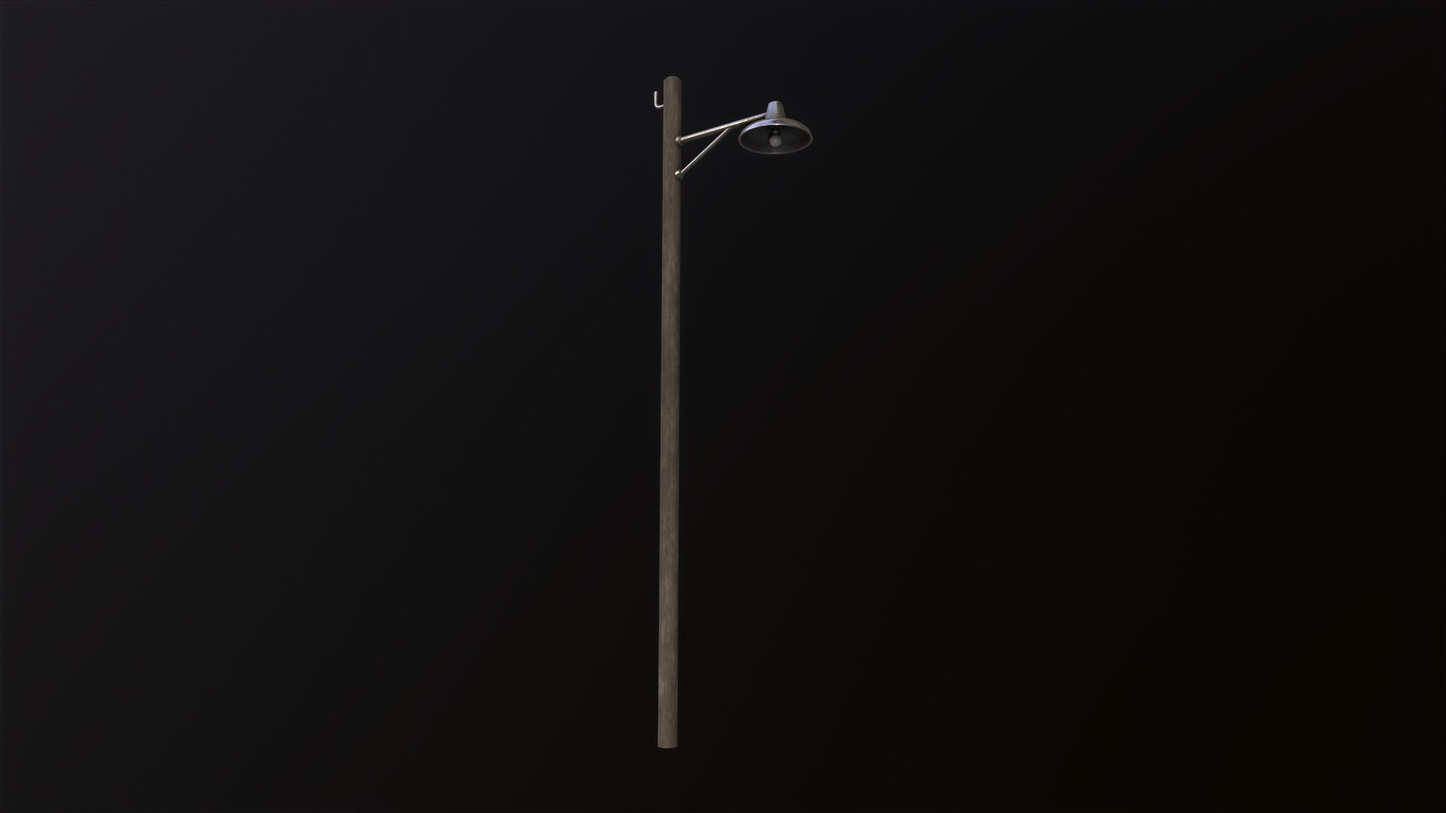light_pole: (639, 65, 689, 761)
